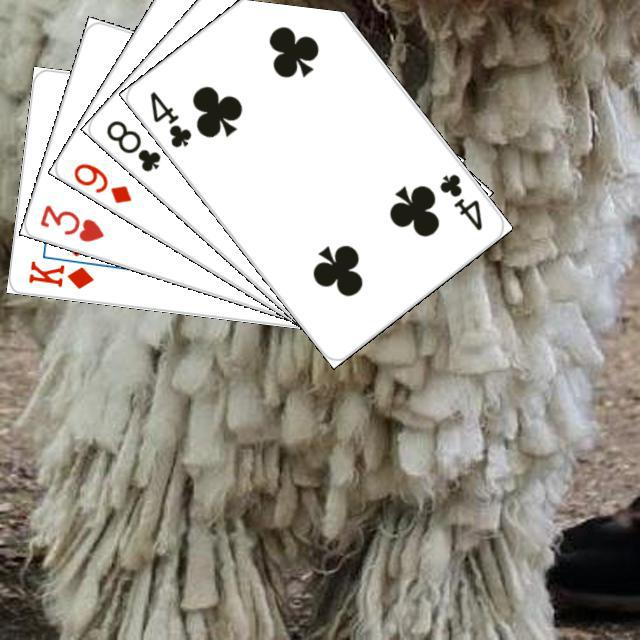3h: (35, 199, 106, 244)
4c: (434, 168, 485, 233), (144, 86, 194, 150)
8c: (101, 115, 163, 174)
9d: (68, 158, 134, 206)
Kd: (23, 255, 95, 291)
